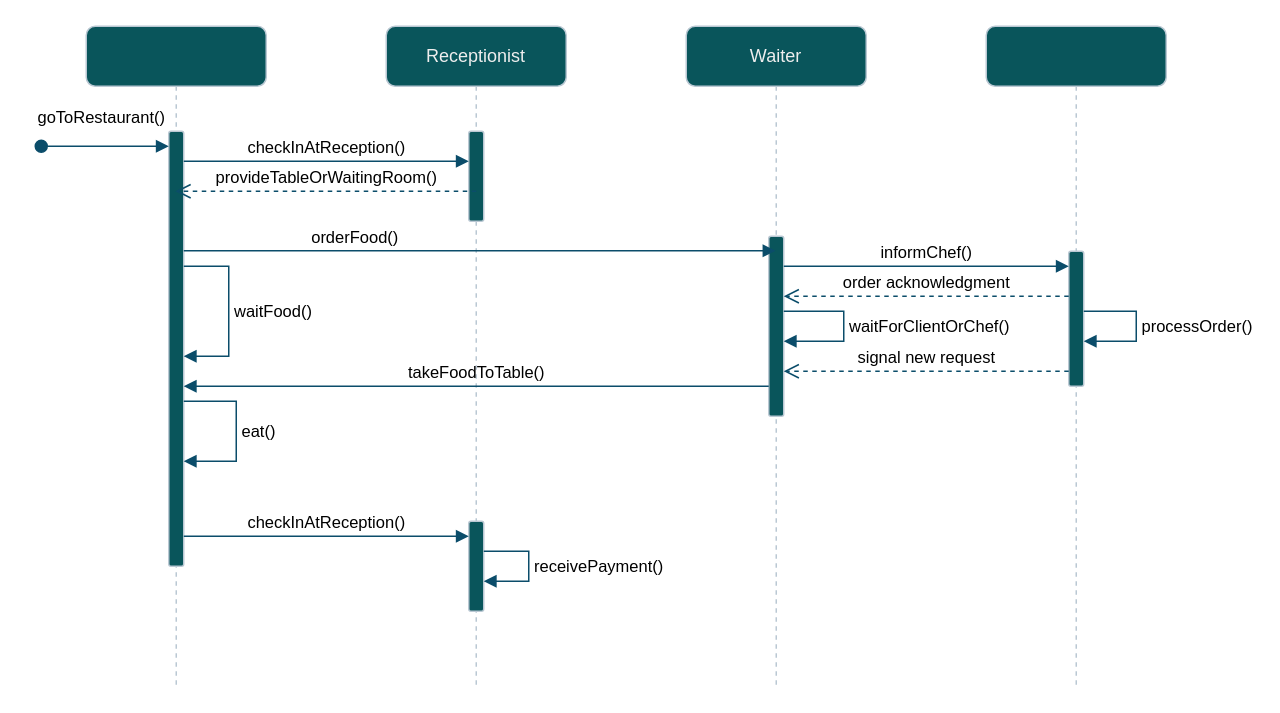
The diagram is 1280 pixels wide and 713 high, and some of its shapes have lost their labels. Each missing label, with the box of its shape:
Chef: (985, 25, 1166, 686)
Group: (85, 25, 266, 686)
